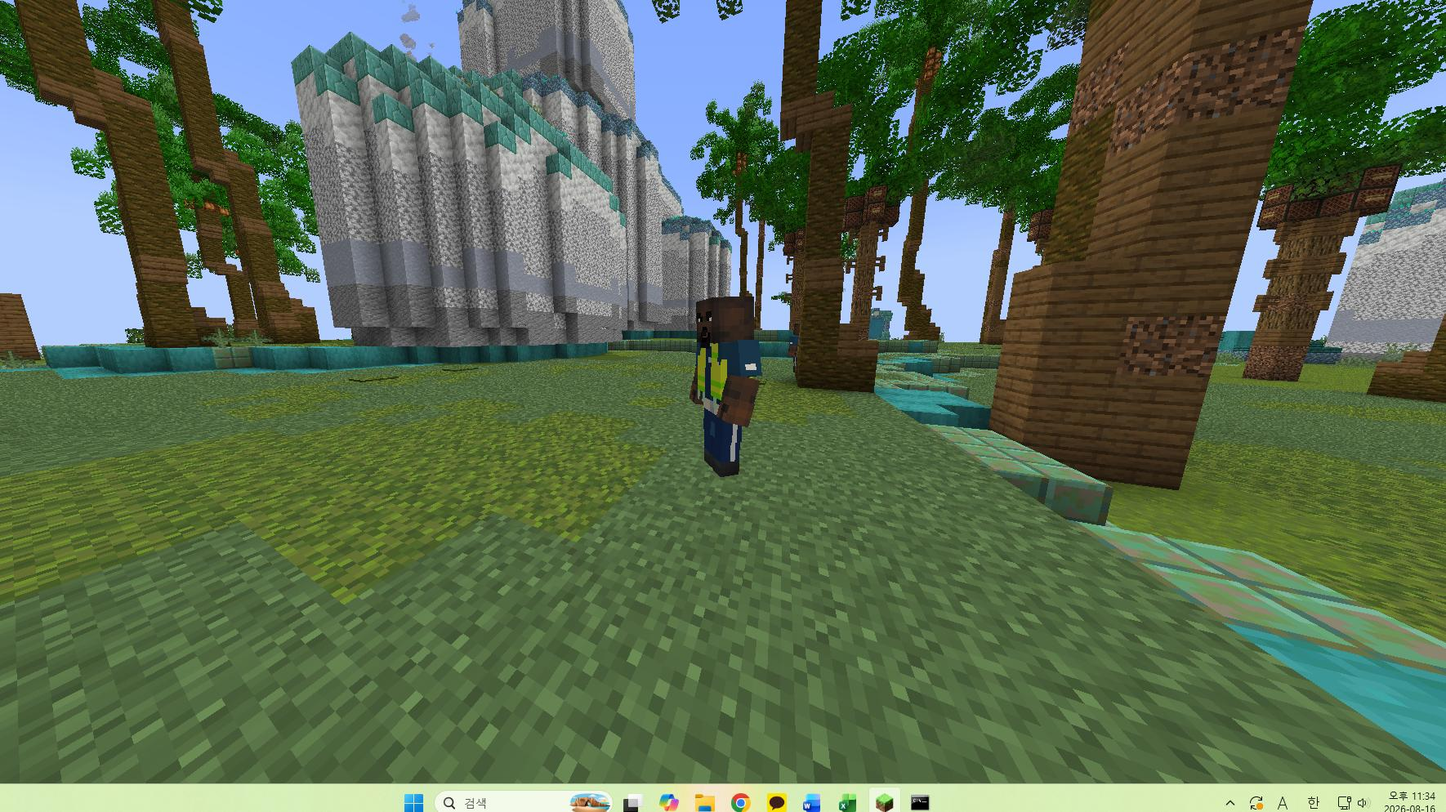Guardian: (690, 295, 762, 475)
